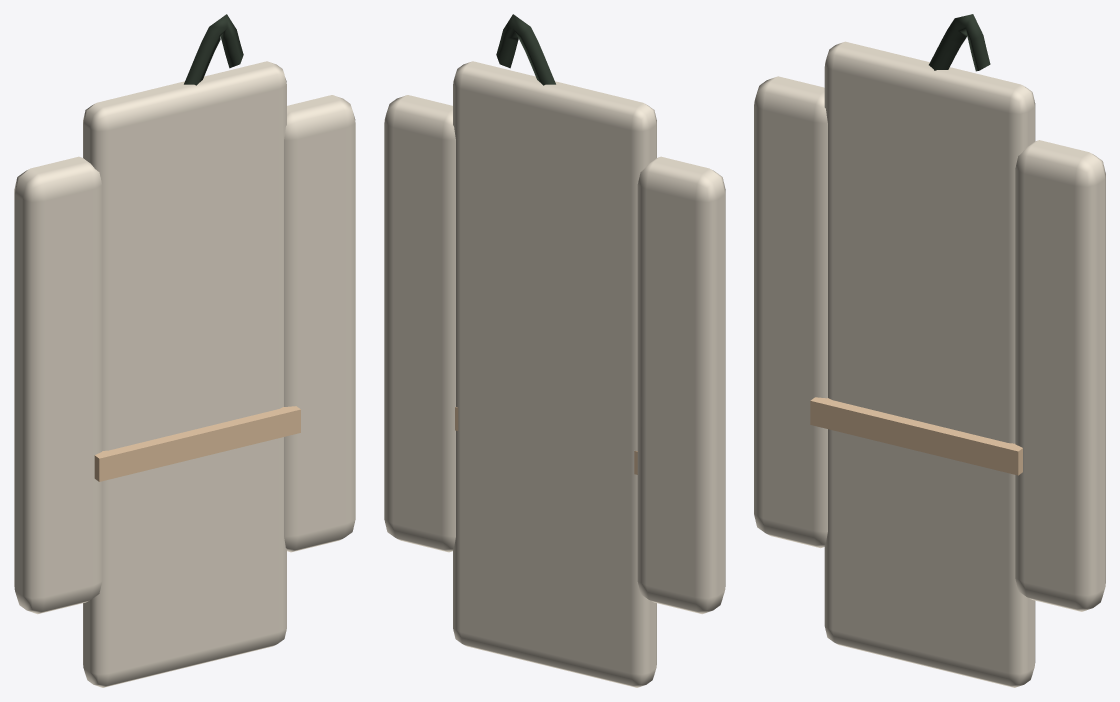
Rendered from bathroom_ref_robe.glb.
3 views of the same model, side by side, from view 1: azimuth 30°, elevation 25°; view 2: azimuth 150°, elevation 25°; view 3: azimuth 330°, elevation 25° (orthographic). The views are drawn at different scales.
Size of the model in its own units: 0.8875 by 1.63 by 0.12.
